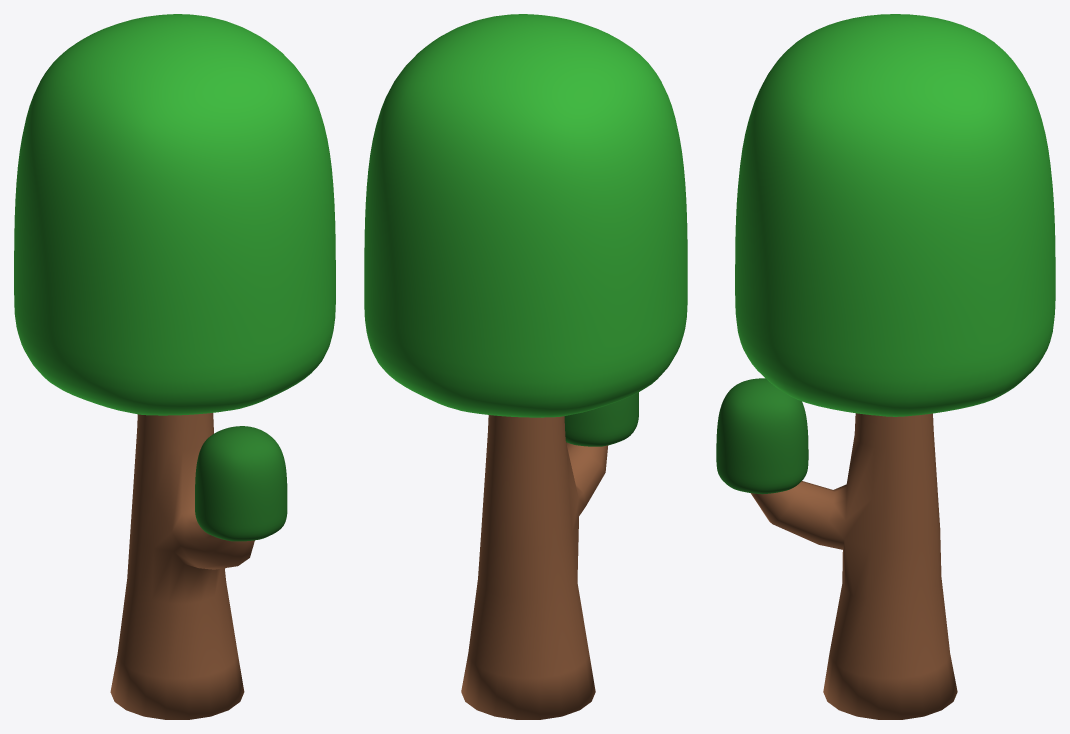
The model's file is PdV_Model_Tree_02.fbx.
3 renders of one model, left to right at view 1: azimuth 30°, elevation 25°; view 2: azimuth 150°, elevation 25°; view 3: azimuth 270°, elevation 25°, orthographic.
Parts seen in each view (by area): view 1: Cube.002, Cylinder.008, Cube.003; view 2: Cube.002, Cylinder.008, Cube.003; view 3: Cube.002, Cylinder.008, Cube.003.
Part boxes in pixels (x1=…): Cube.002: x1=14, y1=14, x2=335, y2=415; Cylinder.008: x1=110, y1=413, x2=254, y2=719; Cube.003: x1=195, y1=426, x2=287, y2=541; Cube.002: x1=364, y1=14, x2=687, y2=417; Cylinder.008: x1=461, y1=415, x2=608, y2=719; Cube.003: x1=564, y1=392, x2=638, y2=446; Cube.002: x1=735, y1=14, x2=1055, y2=416; Cylinder.008: x1=750, y1=413, x2=957, y2=719; Cube.003: x1=716, y1=378, x2=808, y2=494.
Bounding box in the file's own units: 828 × 876 × 1880.
